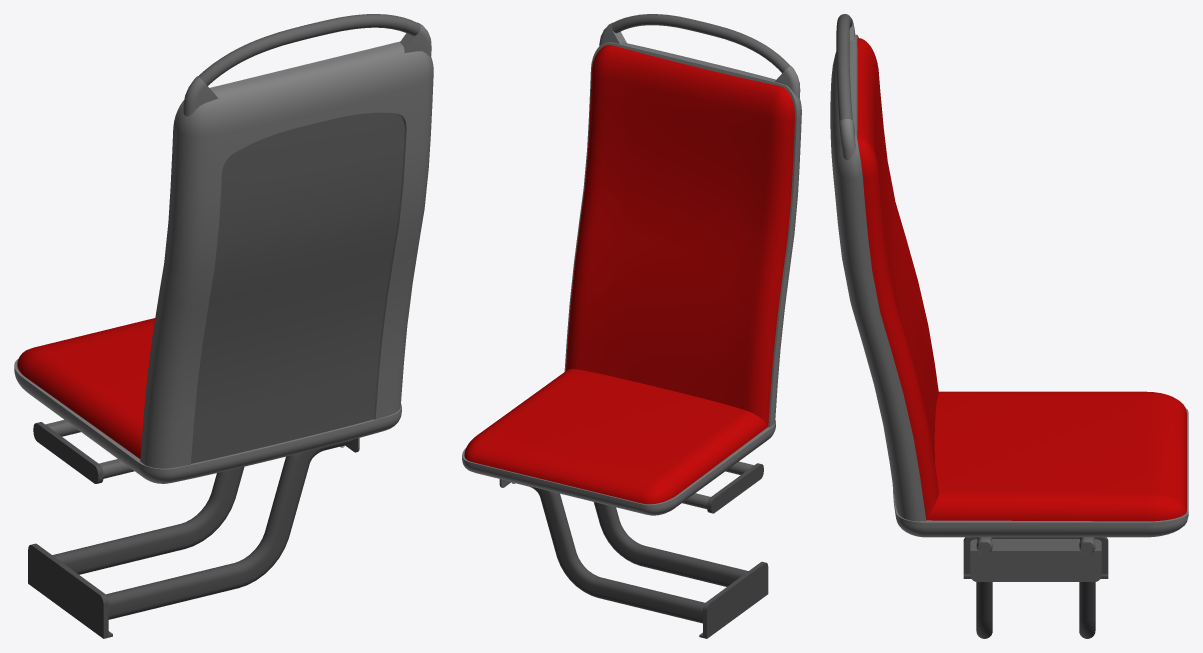
File: bus_seat.glb
3 views of the same model, side by side, from view 1: azimuth 30°, elevation 25°; view 2: azimuth 150°, elevation 25°; view 3: azimuth 270°, elevation 25° (orthographic). The views are drawn at different scales.
Visible parts, largest first — view 1: siedzenia_1; view 2: siedzenia_1; view 3: siedzenia_1.
Boxes of the visible parts, x1,y1,x2,y2 form: siedzenia_1: [14, 14, 433, 638]; siedzenia_1: [462, 14, 801, 638]; siedzenia_1: [830, 14, 1188, 638].
Size of the model in its own units: 0.443 by 0.9665 by 0.5231.
